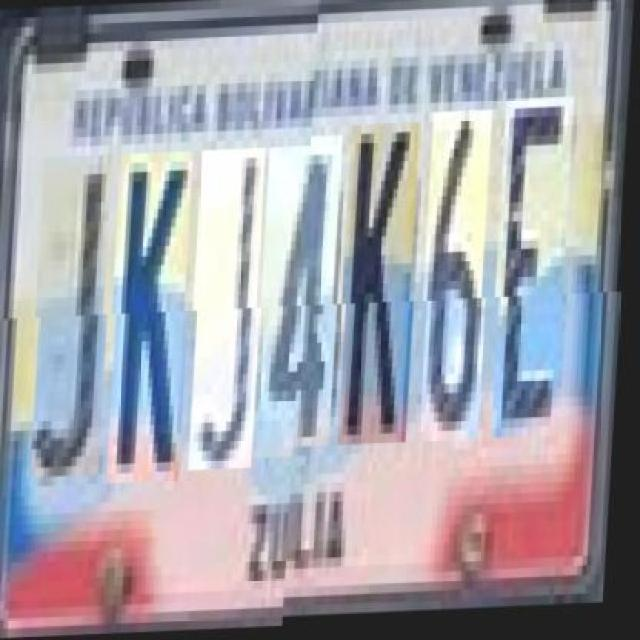4: (262, 148, 348, 462)
6: (424, 123, 498, 455)
e: (496, 111, 579, 452)
j: (37, 156, 118, 478), (194, 150, 272, 473)
k: (112, 152, 200, 485), (343, 135, 426, 458)
